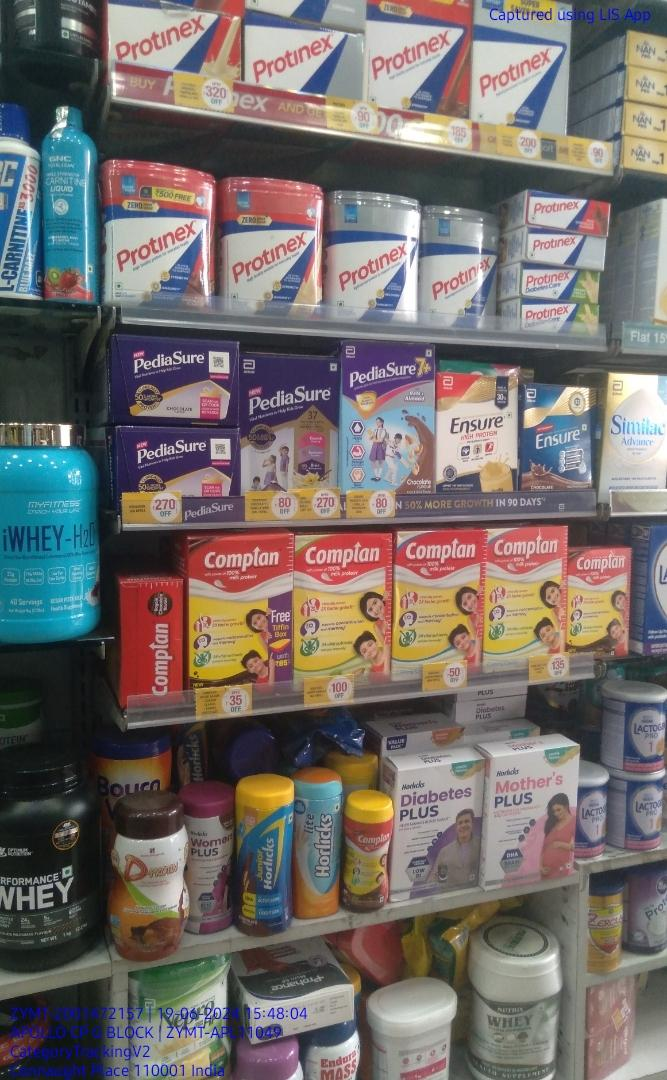COMPLAN_CHOCOLATE_200_GMS_JAR: (340, 795, 392, 911)
HORLICKS_LITE_REGULAR_MALT_500_GM_JAR: (297, 774, 338, 919)
PROTINEX_CHOCOLATE_400_G_JAR: (106, 162, 216, 306)
PROTINEX_ORIGINAL_400_G_JAR: (329, 190, 419, 328), (424, 206, 498, 331)
PROTINEX_VANILLA_400_G_JAR: (223, 179, 320, 313)
